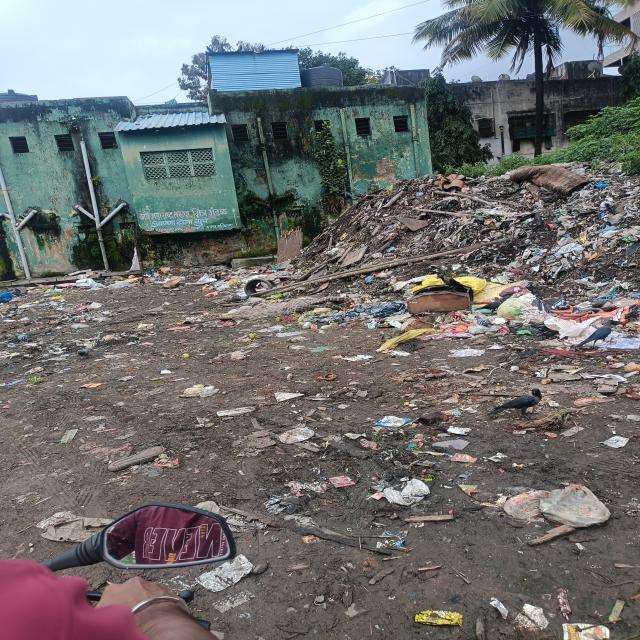garbage: (378, 173, 640, 342), (165, 191, 375, 331), (1, 286, 101, 328), (71, 266, 182, 288)
